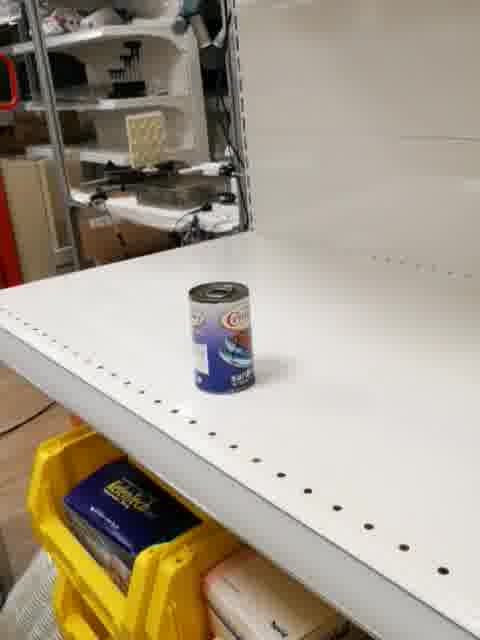sardine: (186, 280, 255, 395)
